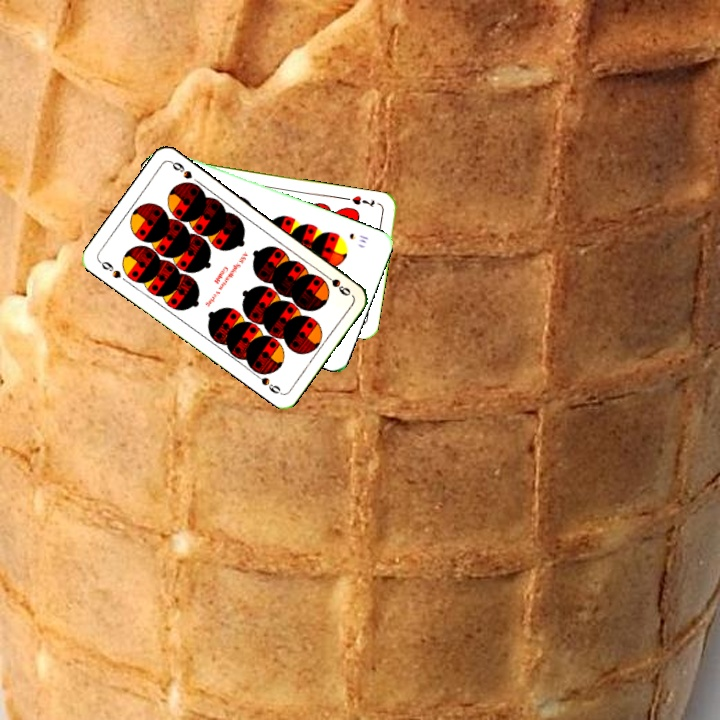H7: (348, 192, 377, 209)
S10: (345, 229, 371, 246)
S9: (319, 269, 353, 299), (95, 257, 124, 281)
